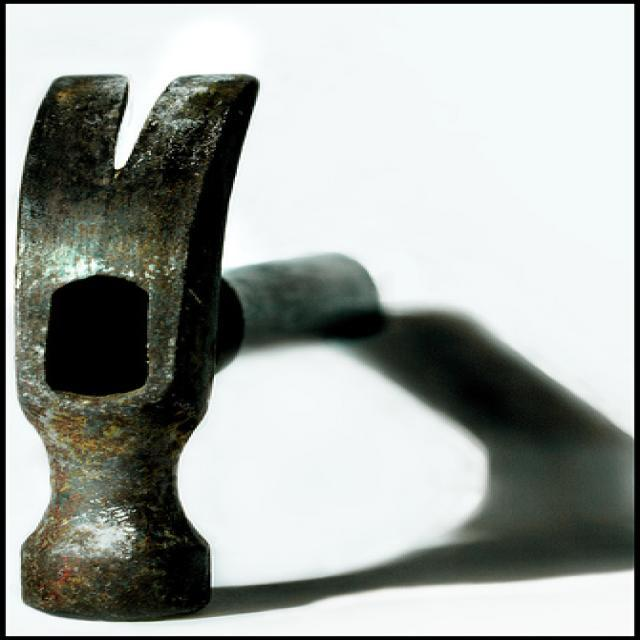hammer: (0, 62, 413, 624)
